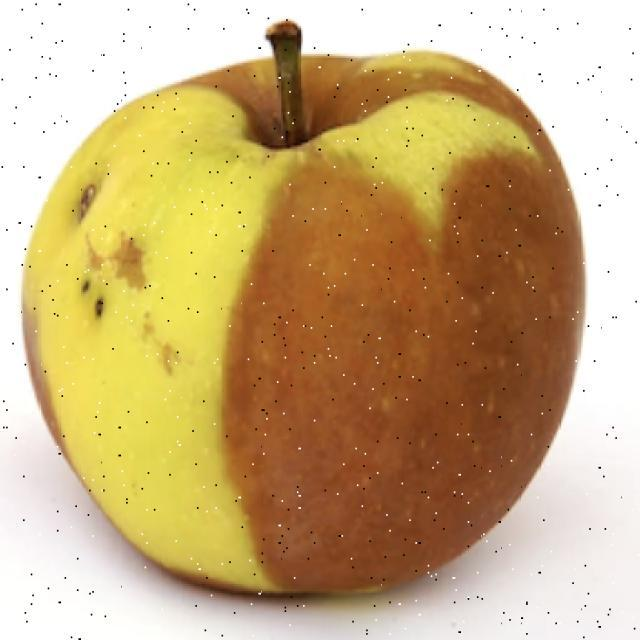Rotten: (28, 58, 582, 595)
